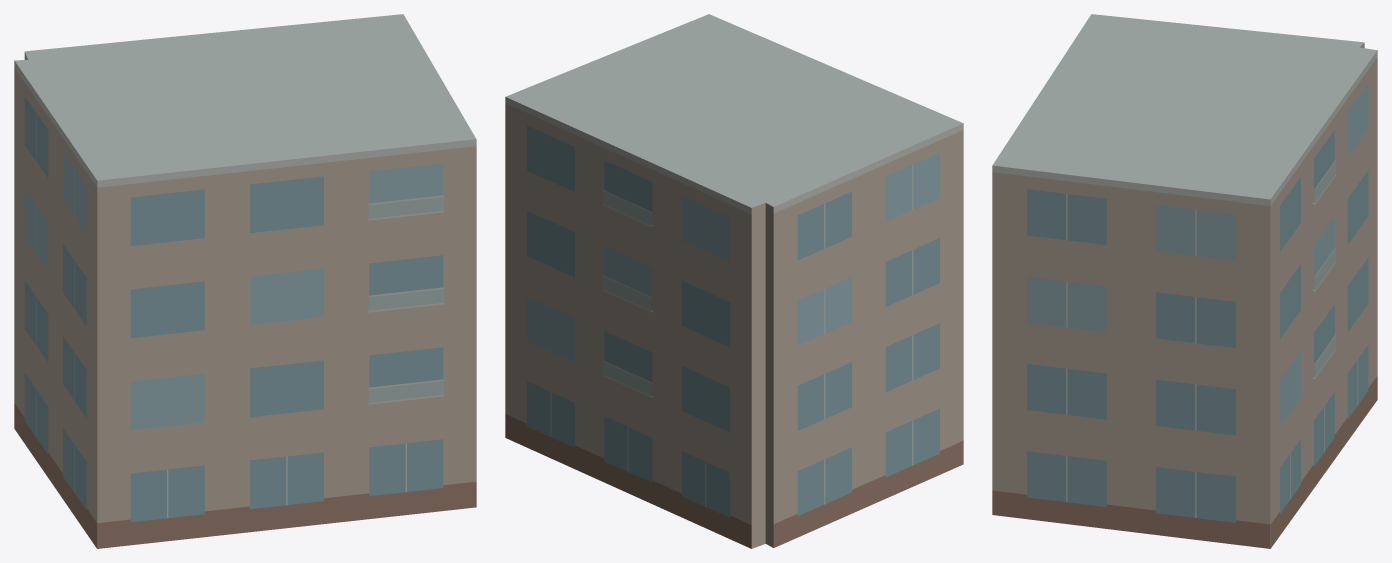
File: survey-upis-32642475.glb
3 views of the same model, side by side, from view 1: azimuth 30°, elevation 25°; view 2: azimuth 150°, elevation 25°; view 3: azimuth 270°, elevation 25° (orthographic). The views are drawn at different scales.
Visible parts, largest first — view 1: survey-upis-32642475.tmp; view 2: survey-upis-32642475.tmp; view 3: survey-upis-32642475.tmp.
Boxes of the visible parts, x1,y1,x2,y2 form: survey-upis-32642475.tmp: [14, 14, 476, 548]; survey-upis-32642475.tmp: [505, 14, 963, 548]; survey-upis-32642475.tmp: [992, 14, 1377, 548].
Size of the model in its own units: 14.7 by 12.9 by 12.9.
